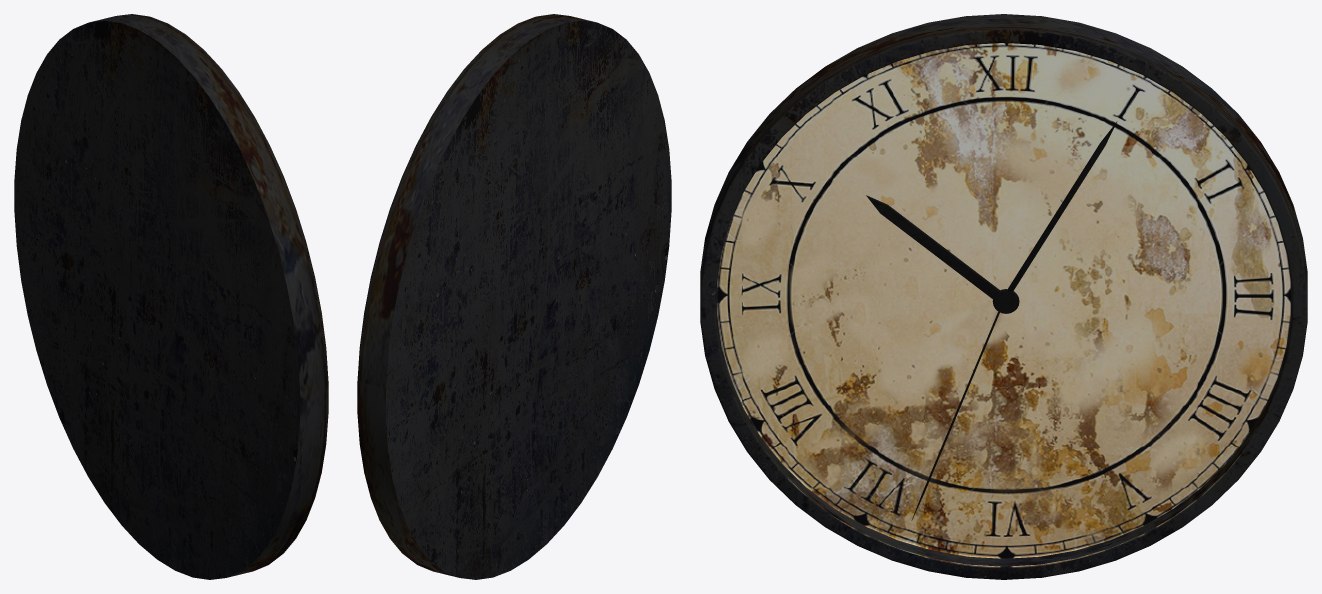
The model's file is Clock_Final.fbx.
The picture shows the model from 3 angles, left to right: view 1: azimuth 30°, elevation 25°; view 2: azimuth 150°, elevation 25°; view 3: azimuth 270°, elevation 25°; orthographic projection. The views are drawn at different scales.
Parts seen in each view (by area): view 1: pCylinder4; view 2: pCylinder4; view 3: pCylinder4, pCube3, pCube4.
Part boxes in pixels (x1,y1,x2,y2): pCylinder4: (14, 14, 328, 579); pCylinder4: (357, 14, 671, 579); pCylinder4: (700, 14, 1307, 579); pCube3: (866, 195, 1000, 299); pCube4: (1007, 121, 1117, 292).
Bounding box in the file's own units: 0.6044 × 10.19 × 10.17.
